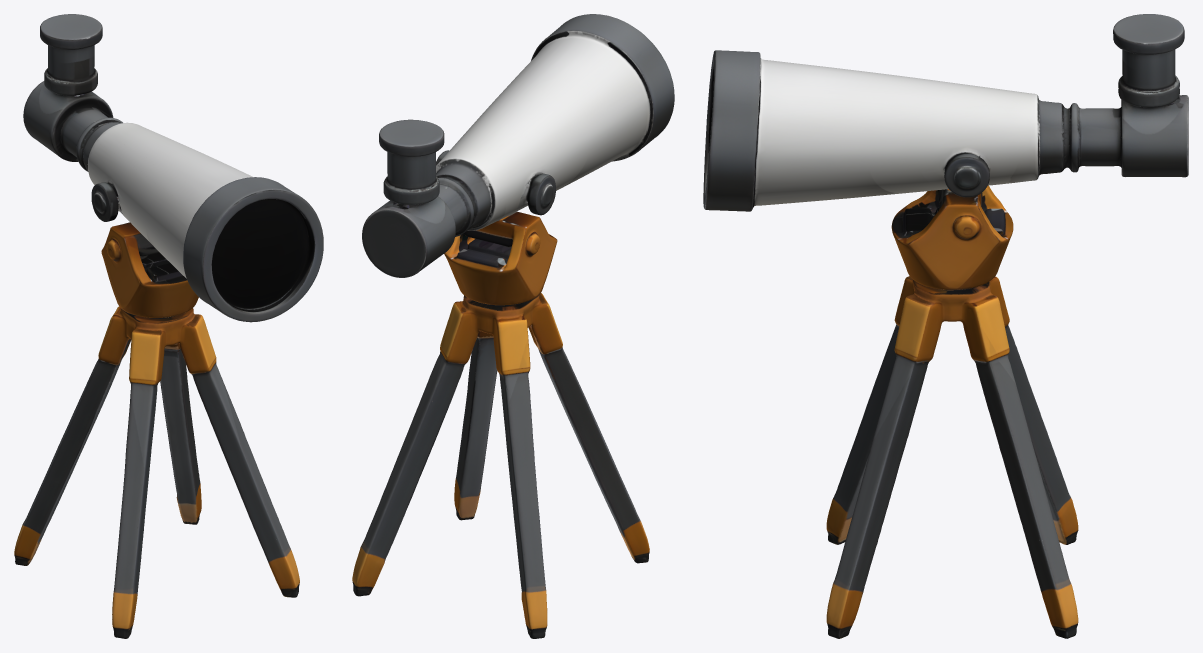
The model's file is Simple sci fi telescope.fbx.
The picture shows the model from 3 angles, left to right: view 1: azimuth 30°, elevation 25°; view 2: azimuth 150°, elevation 25°; view 3: azimuth 270°, elevation 25°; orthographic projection. The views are drawn at different scales.
Visible parts, largest first — view 1: Simple sci fi telescope; view 2: Simple sci fi telescope; view 3: Simple sci fi telescope.
Part boxes in pixels (box(x1,y1,x2,y2)): Simple sci fi telescope: box(14, 14, 323, 638); Simple sci fi telescope: box(352, 14, 674, 638); Simple sci fi telescope: box(703, 14, 1188, 638).
Bounding box in the file's own units: 75.88 × 190 × 149.
